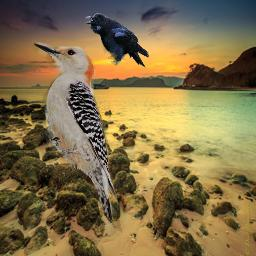Crow: (85, 13, 149, 69)
Woodpecker: (31, 34, 124, 235)
